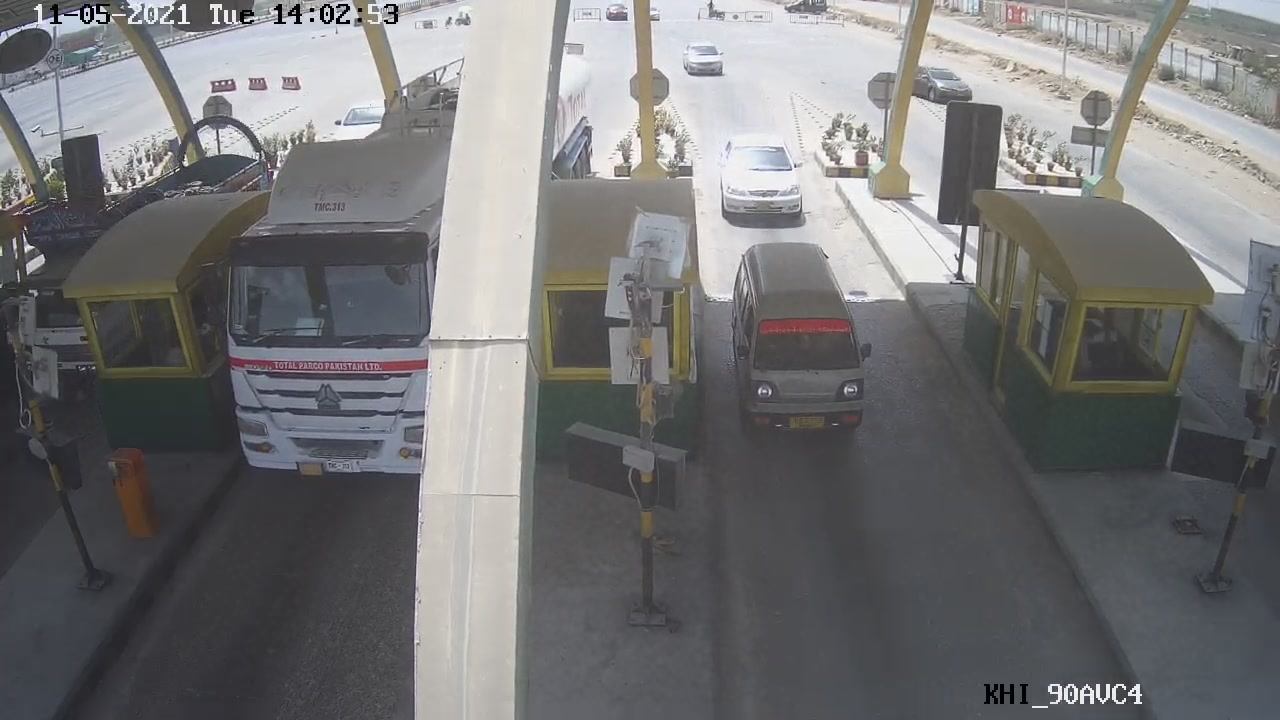F1: (727, 242, 886, 445)
